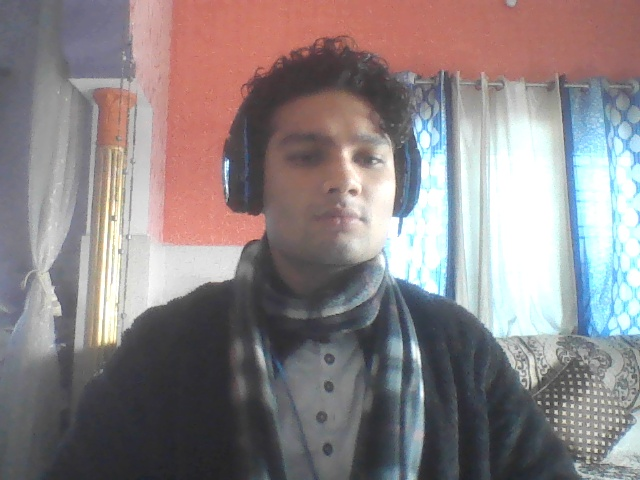real: (247, 53, 407, 280)
